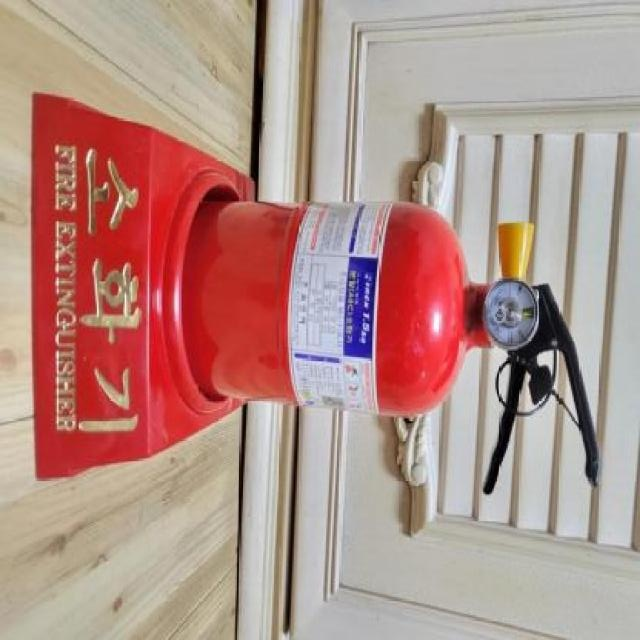fire extinguisher: (182, 199, 602, 496)
